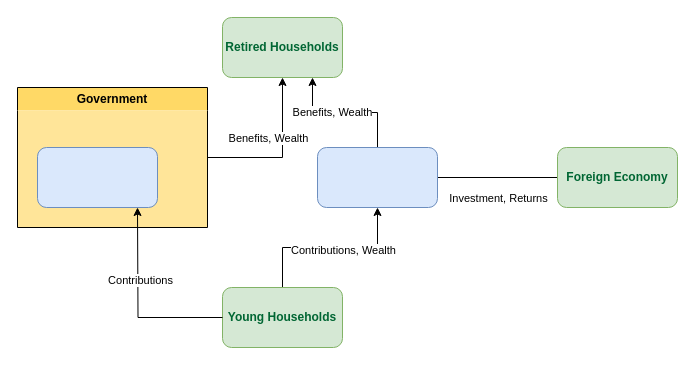
This 695x365 diagram has some shape labels left out. The centre of each missing label's shape, as x and y in pixels:
FF: the point at 377,177
PAYG: the point at 97,177
